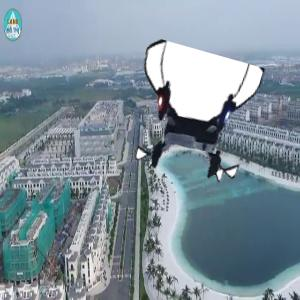drone: (129, 52, 261, 184)
